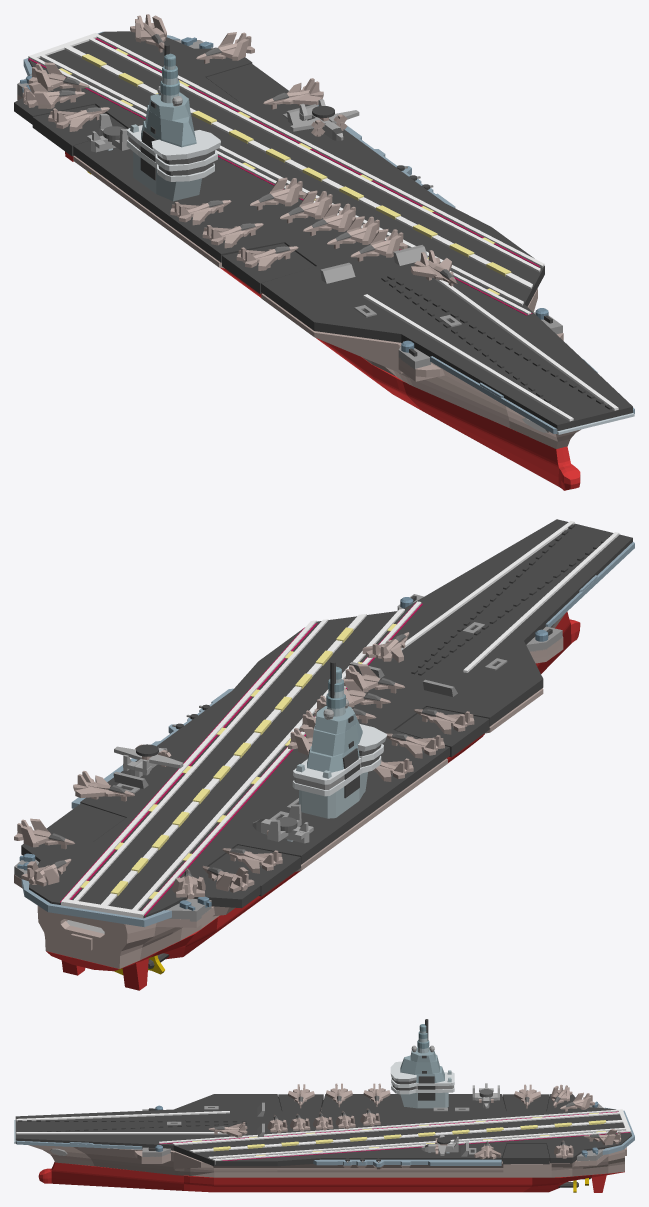
File: ship.glb
The picture shows the model from 3 angles, top to bottom: view 1: azimuth 30°, elevation 25°; view 2: azimuth 150°, elevation 25°; view 3: azimuth 270°, elevation 25°; orthographic projection. The views are drawn at different scales.
Visible parts, largest first — view 1: Top, Down; view 2: Top, Down; view 3: Top, Down.
Part boxes in pixels (box(x1,y1,x2,y2)): Top: box(14, 14, 634, 434); Down: box(17, 37, 580, 490); Top: box(14, 519, 634, 927); Down: box(14, 594, 580, 990); Top: box(14, 1019, 634, 1167); Down: box(28, 1084, 626, 1192).
Bounding box in the file's own units: 8.58 × 7.95 × 32.5.
1 material, 1 textured.
